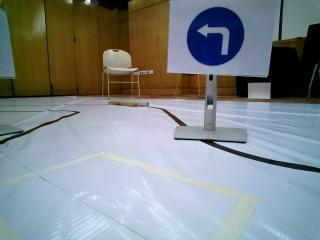left: (175, 5, 272, 69)
